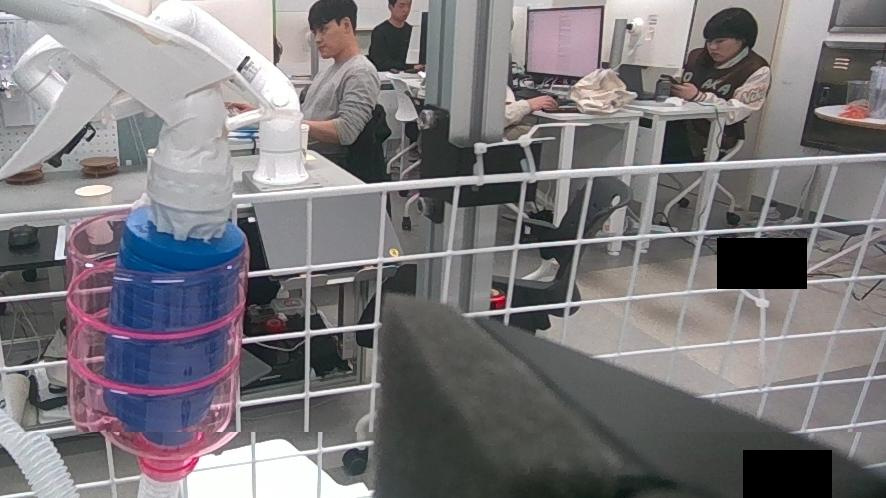Nozzle: (0, 0, 278, 426)
